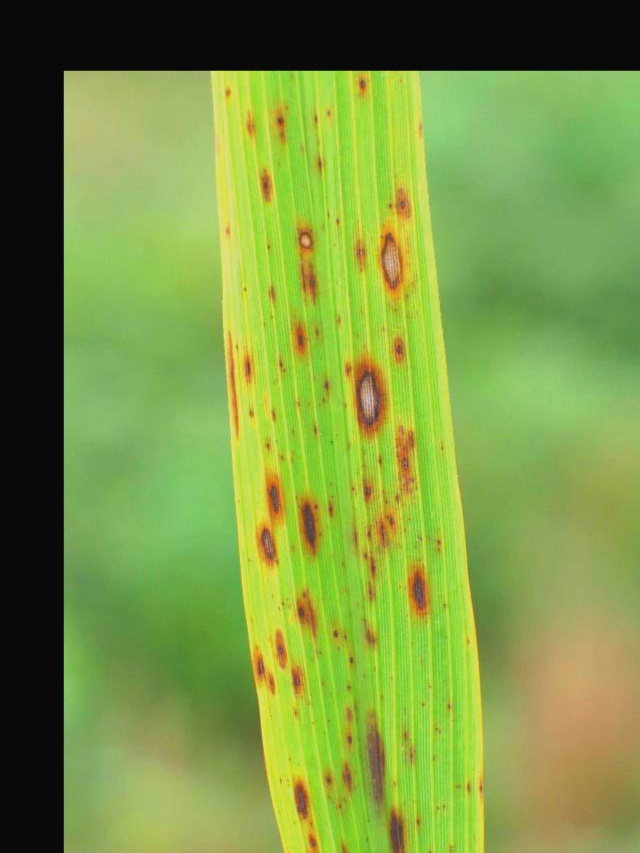Bacterial_Leaf_Blight: (353, 707, 402, 821), (346, 351, 386, 429), (293, 481, 331, 553), (374, 225, 408, 300), (403, 554, 437, 624), (284, 577, 324, 636), (277, 764, 315, 825), (258, 462, 289, 524), (278, 312, 318, 360), (378, 813, 418, 853), (384, 175, 421, 218), (253, 517, 279, 569), (277, 100, 301, 153), (272, 620, 293, 670), (232, 324, 241, 440), (243, 343, 264, 392), (290, 225, 325, 254), (251, 639, 269, 693), (285, 660, 311, 696), (351, 72, 377, 100), (259, 165, 278, 203), (239, 108, 260, 140), (223, 84, 231, 101)
